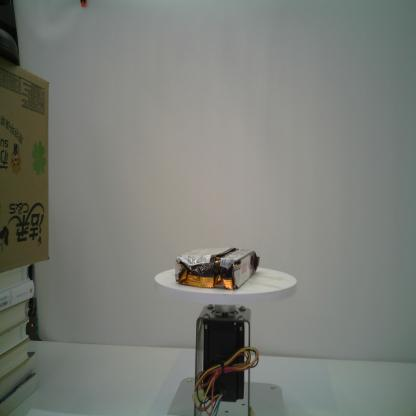Dessert: (174, 247, 260, 290)
